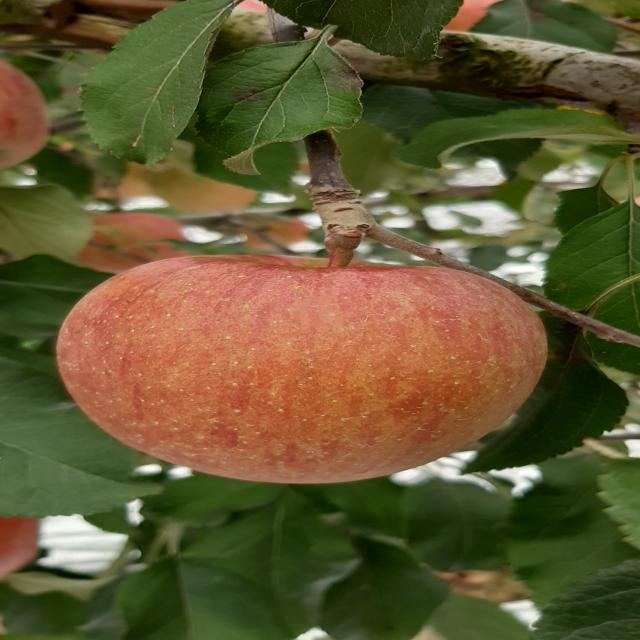fresh: (43, 241, 568, 491)
